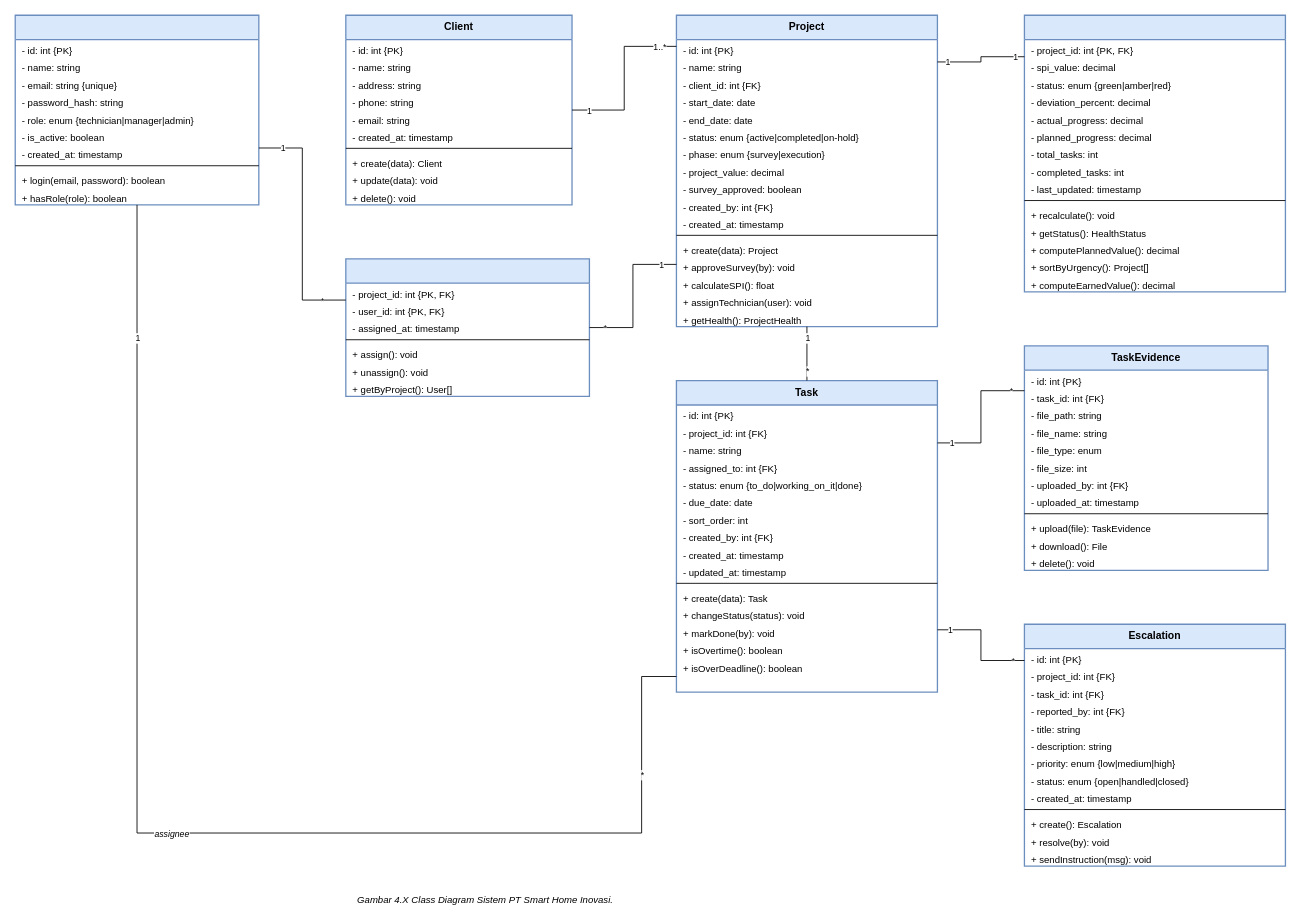
The diagram is 1302 pixels wide and 921 high, and some of its shapes have lost their labels. Here are the shapes that lost their labels. From the top down, the box of each, then its label:
(14, 14, 259, 205): User
(1023, 14, 1286, 292): ProjectHealth
(345, 258, 590, 397): ProjectAssignment
